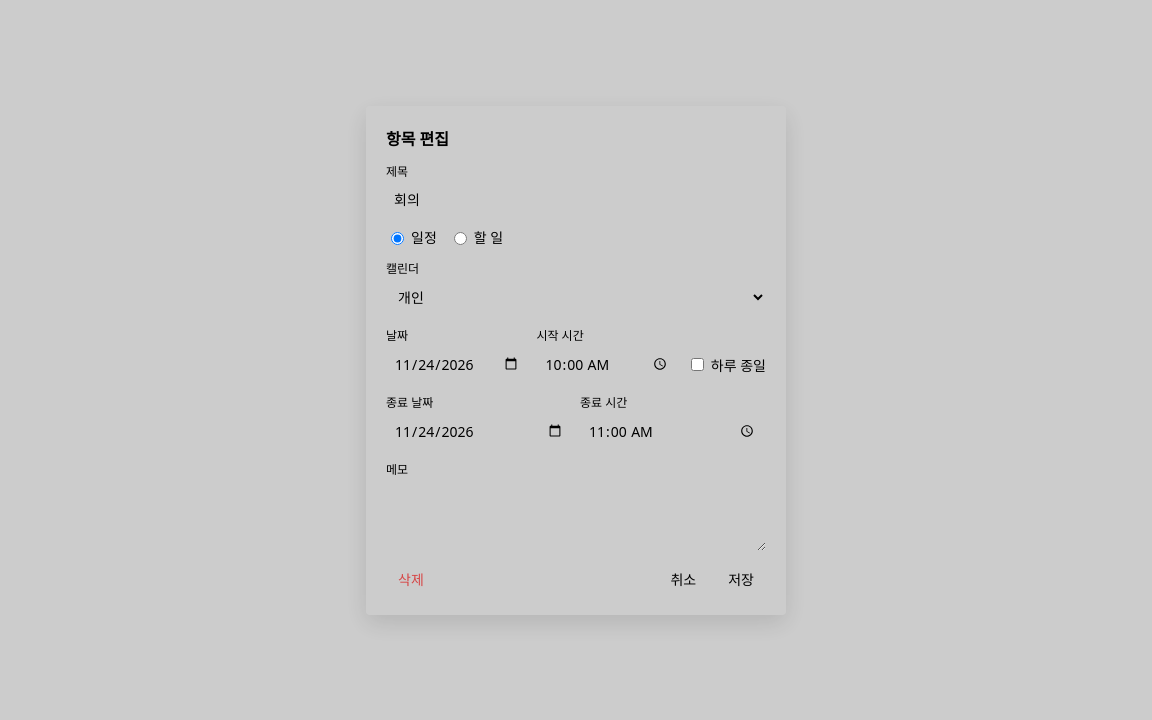
Test: ItemEditDialog › 일정을 할 일로 바꾸면 종료가 사라지고 완료 체크가 생긴다
The width and height of the screenshot is (1152, 720).
Later steps or results of the test are not shown.
Click the radio button labelled "할 일" at (460, 238), box [454,232,467,244]
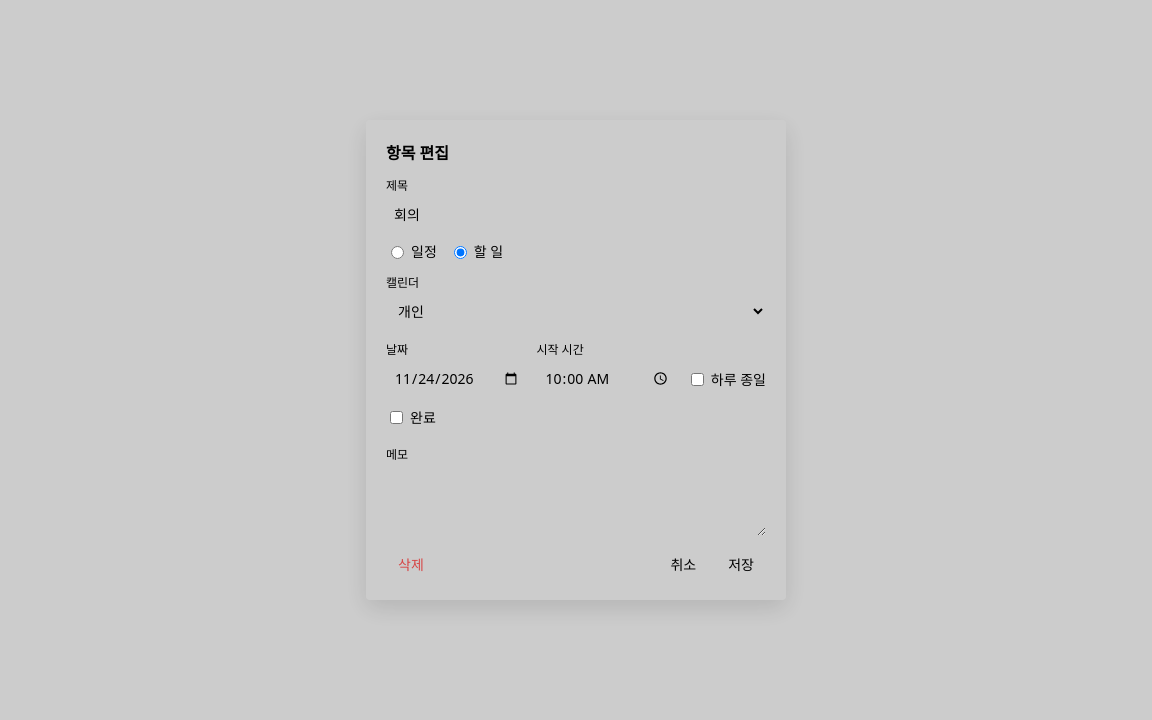
Expected: the text labelled "종료 시간" is gone
Expected: the checkbox labelled "완료" is shown, [390,410,403,424]
